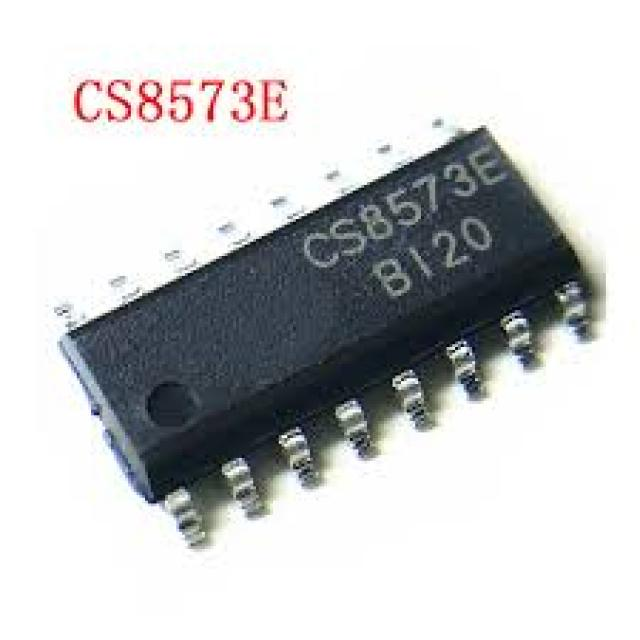IC: (54, 114, 601, 558)
